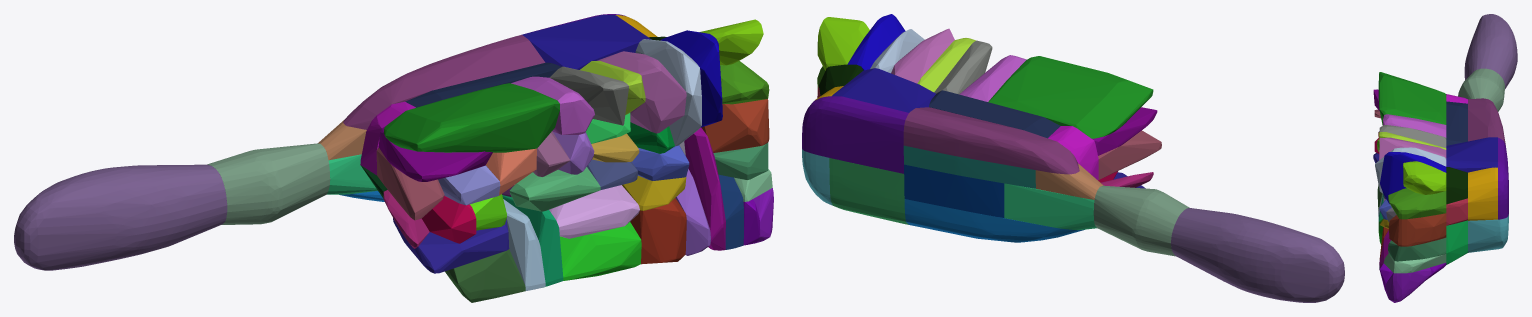
The model's file is red_brush.obj.
The picture shows the model from 3 angles, left to right: view 1: azimuth 30°, elevation 25°; view 2: azimuth 150°, elevation 25°; view 3: azimuth 270°, elevation 25°; orthographic projection. The views are drawn at different scales.
Visible parts, largest first — view 1: geometry_1, geometry_8, geometry_0, geometry_28, geometry_20, geometry_50, geometry_7, geometry_49, geometry_18, geometry_6, geometry_15, geometry_19 (+36 smaller); view 2: geometry_1, geometry_8, geometry_28, geometry_27, geometry_0, geometry_10, geometry_29, geometry_42, geometry_61, geometry_20, geometry_60, geometry_21 (+14 smaller); view 3: geometry_1, geometry_8, geometry_31, geometry_59, geometry_20, geometry_30, geometry_28, geometry_0, geometry_2, geometry_5, geometry_4, geometry_43 (+16 smaller).
Boxes of the visible parts, box(x1,y1,x2,y2) form: geometry_1: box(14, 164, 227, 270); geometry_8: box(383, 83, 559, 152); geometry_0: box(207, 143, 330, 224); geometry_28: box(343, 35, 545, 129); geometry_20: box(522, 15, 651, 69); geometry_50: box(560, 222, 641, 280); geometry_7: box(597, 51, 686, 133); geometry_49: box(549, 185, 639, 238); geometry_18: box(393, 218, 509, 273); geometry_6: box(635, 39, 701, 146); geometry_15: box(630, 198, 686, 264); geometry_19: box(445, 249, 525, 302); geometry_1: box(1170, 208, 1344, 302); geometry_8: box(988, 56, 1153, 138); geometry_28: box(903, 107, 1079, 174); geometry_27: box(802, 96, 908, 173); geometry_0: box(1093, 185, 1189, 256); geometry_10: box(829, 158, 908, 224); geometry_29: box(904, 199, 1084, 242); geometry_42: box(904, 164, 1004, 217); geometry_61: box(1004, 183, 1096, 230); geometry_20: box(832, 68, 935, 112); geometry_60: box(903, 145, 1035, 188); geometry_21: box(929, 90, 1060, 138); geometry_1: box(1464, 14, 1517, 88); geometry_8: box(1378, 72, 1446, 125); geometry_31: box(1388, 213, 1446, 246); geometry_59: box(1468, 167, 1497, 220); geometry_20: box(1446, 137, 1497, 172); geometry_30: box(1388, 188, 1446, 219); geometry_28: box(1468, 98, 1505, 146); geometry_0: box(1458, 68, 1505, 111); geometry_2: box(1468, 214, 1508, 252); geometry_5: box(1380, 152, 1446, 203); geometry_4: box(1403, 161, 1446, 194); geometry_43: box(1388, 237, 1446, 261).
Size of the model in its own units: 0.322 by 0.0963 by 0.0936.
